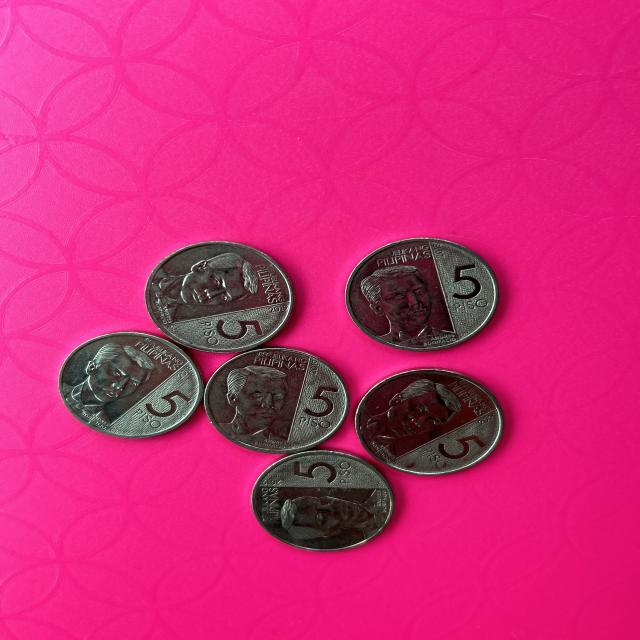5_New_Front: (440, 256, 492, 320), (419, 426, 486, 474), (280, 456, 360, 492), (293, 378, 345, 432), (197, 314, 269, 352), (135, 391, 202, 430)
